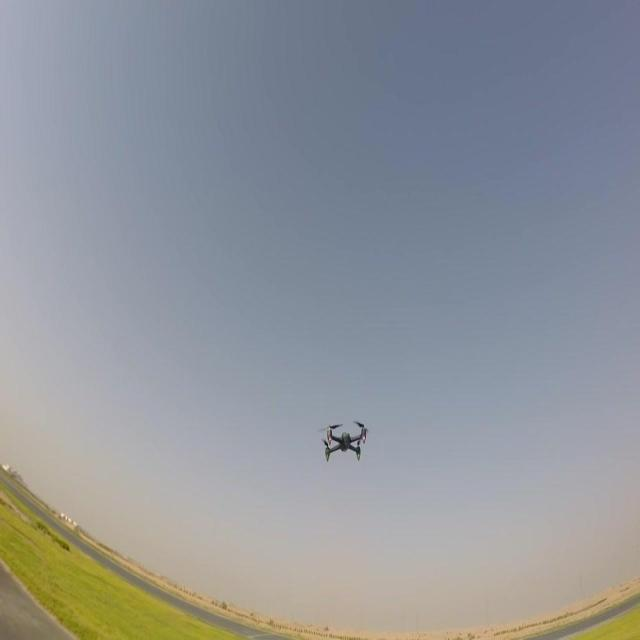drone: (321, 417, 369, 466)
